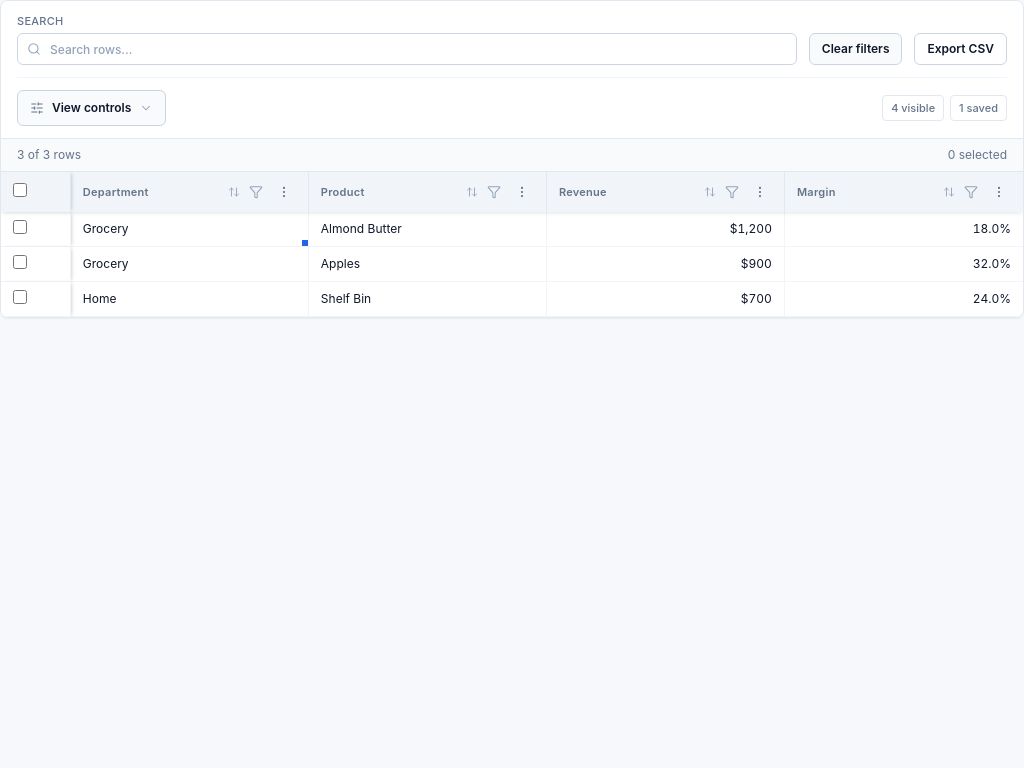
it: DataGrid data access API › restores declarative presentation from a saved view
The image size is (1024, 768).
Click the button "View controls": {"x": 92, "y": 108} [17,90,166,126]
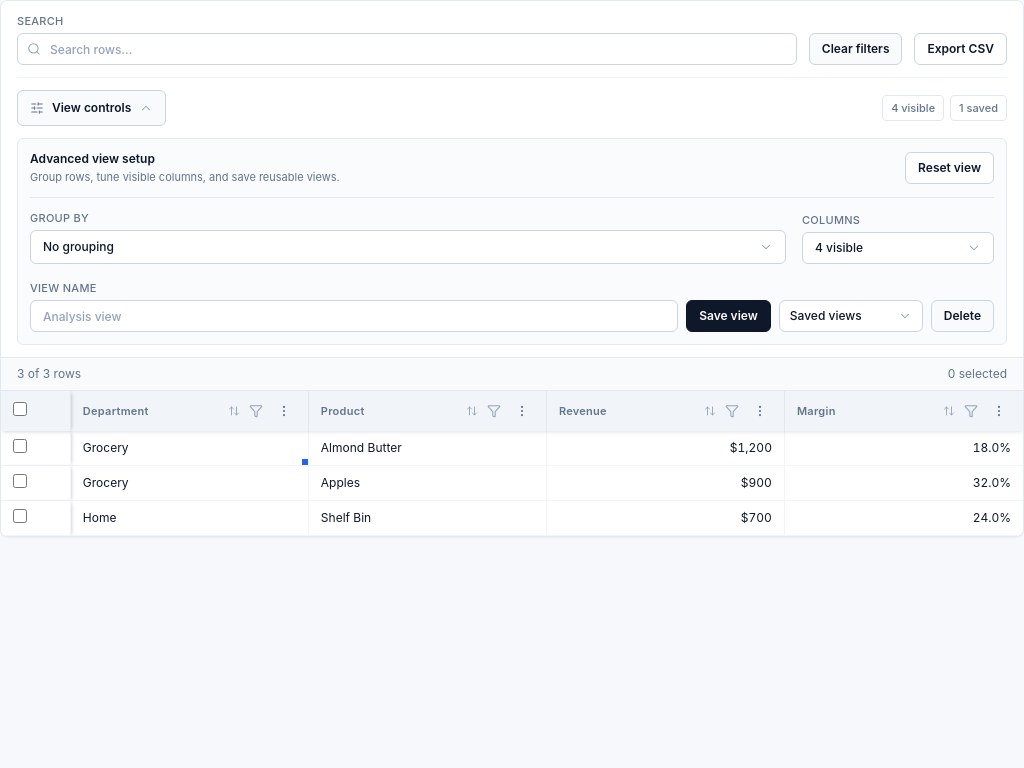
Click the button with aria-label "Apply saved view": {"x": 851, "y": 316} [779,300,923,332]
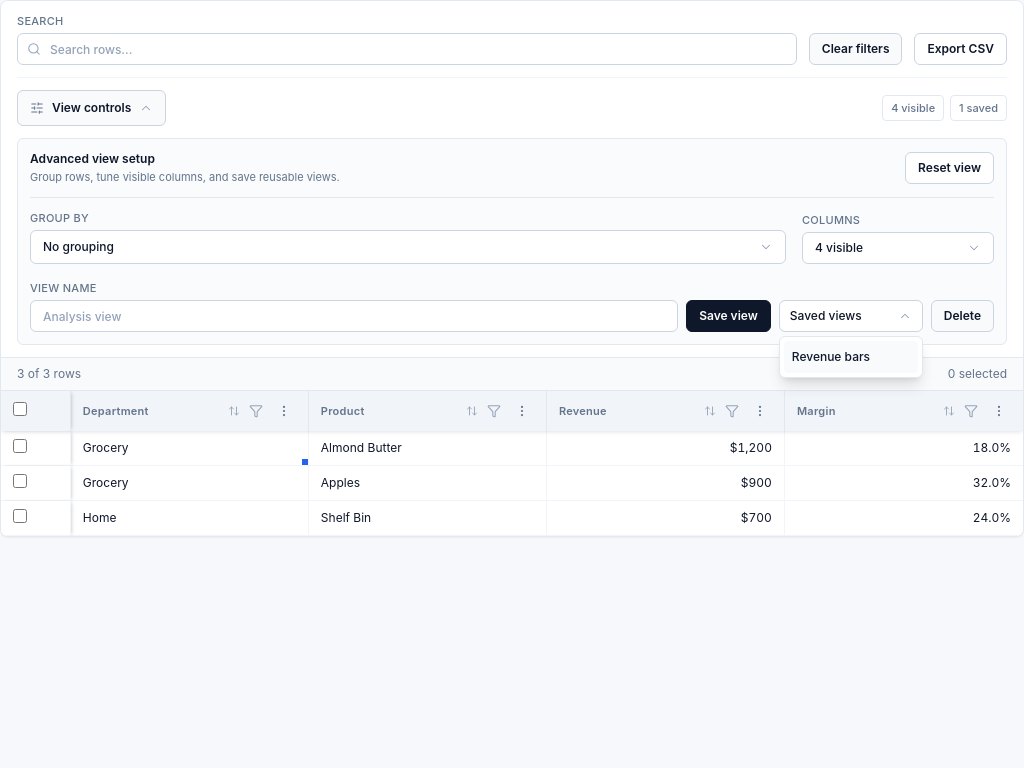
Click the option "Revenue bars": {"x": 851, "y": 357} [784,341,918,373]
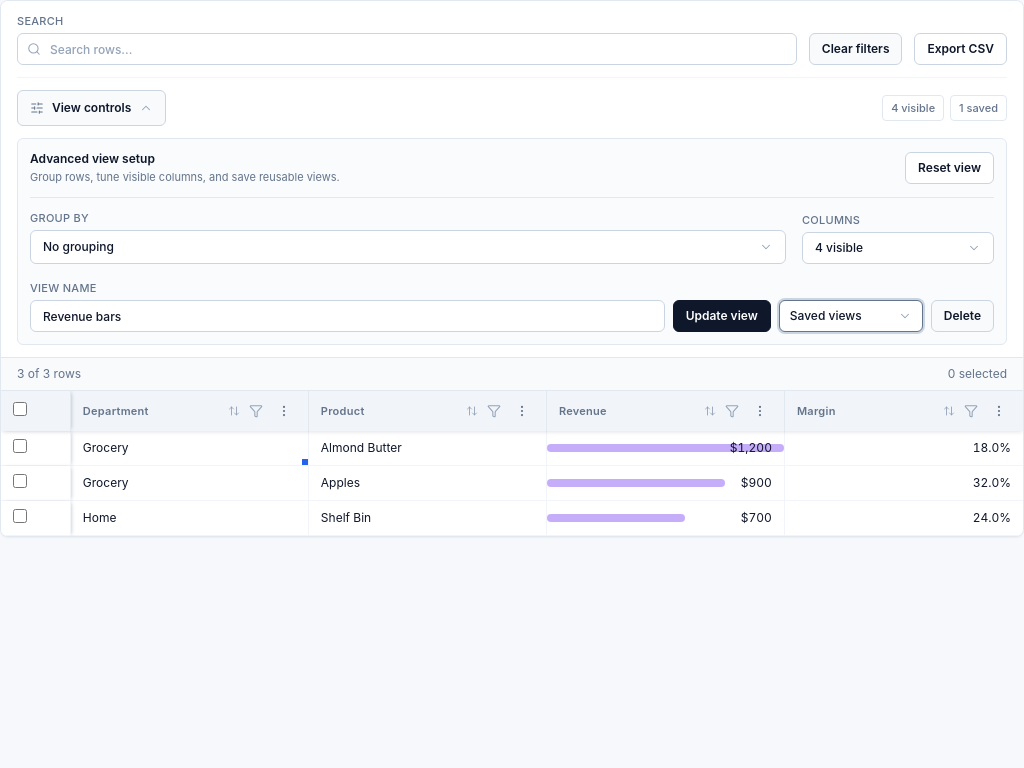
Now the number of elements with class "dg-databar" is 3, box [547,444,784,452]; [547,479,725,487]; [547,514,685,522]
